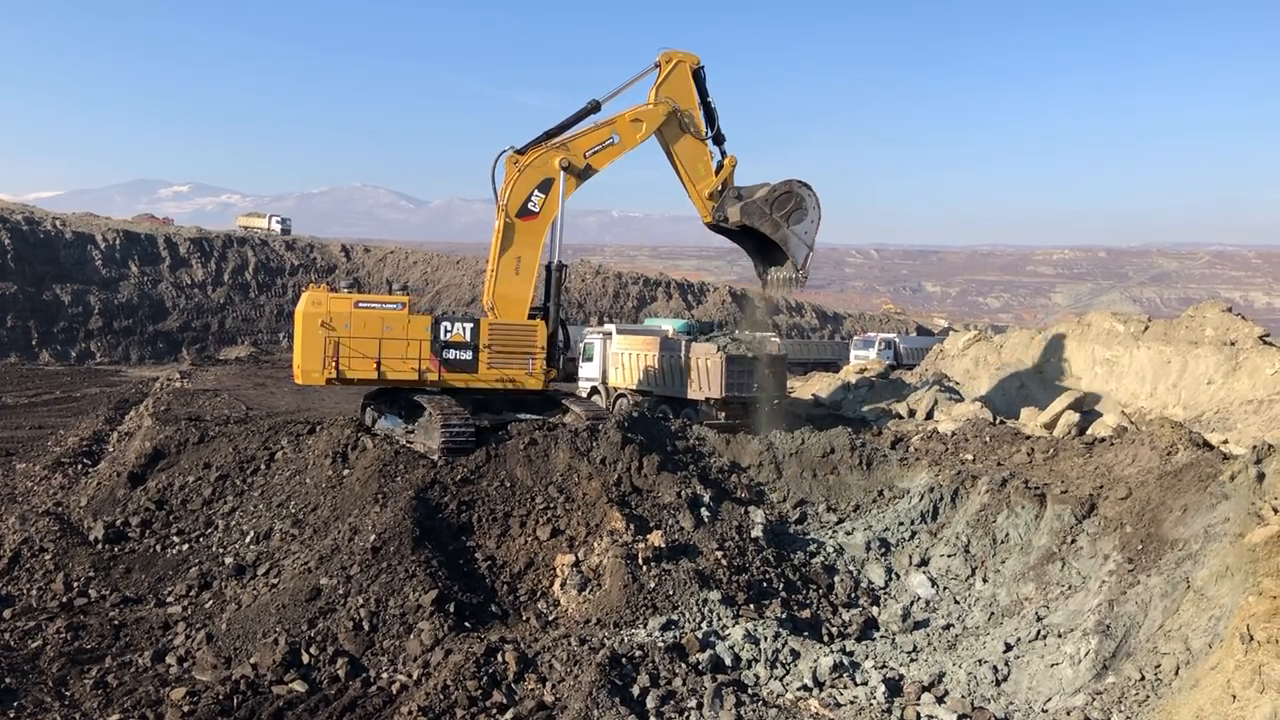empty: (688, 181, 829, 299)
